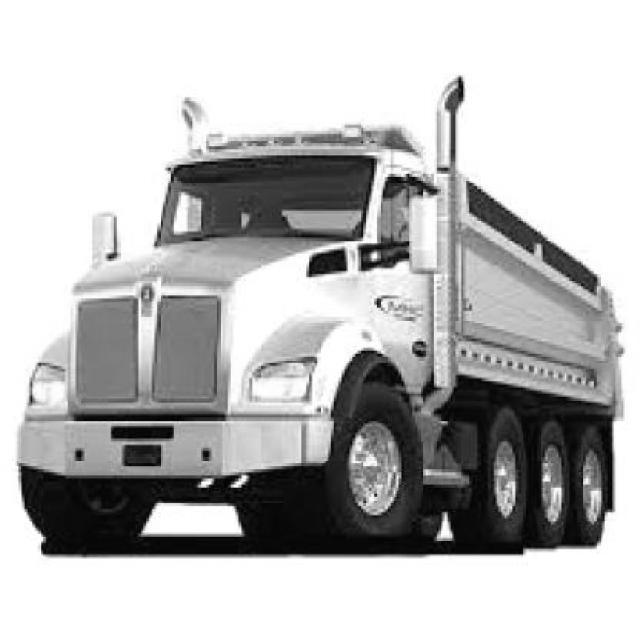Truck- Multi-Axle: (18, 78, 628, 549)
